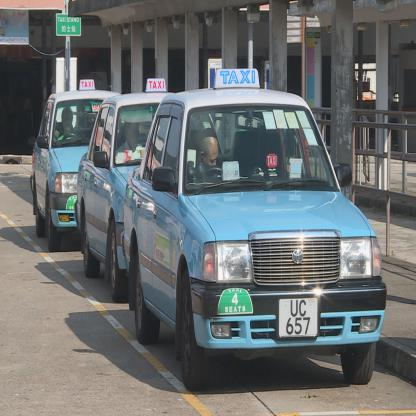taxi: (123, 58, 388, 396), (30, 58, 81, 270)
